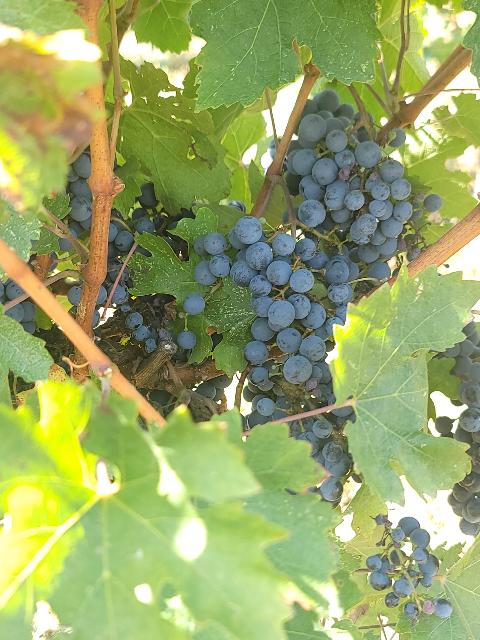grapes: (285, 90, 441, 279), (194, 216, 339, 382), (244, 366, 352, 504), (365, 515, 439, 628)
